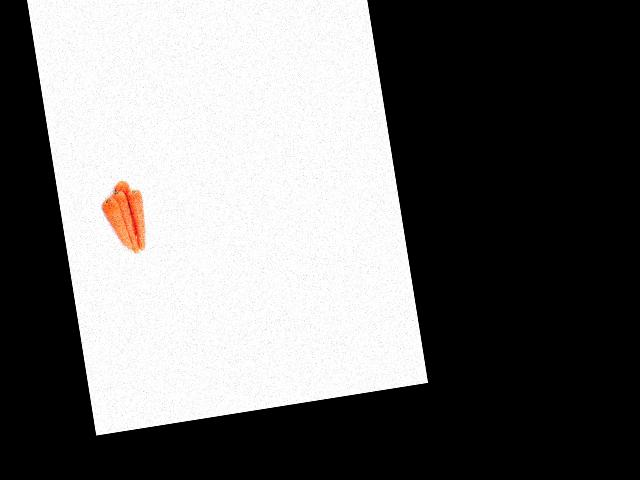carrot: (101, 194, 127, 254)
